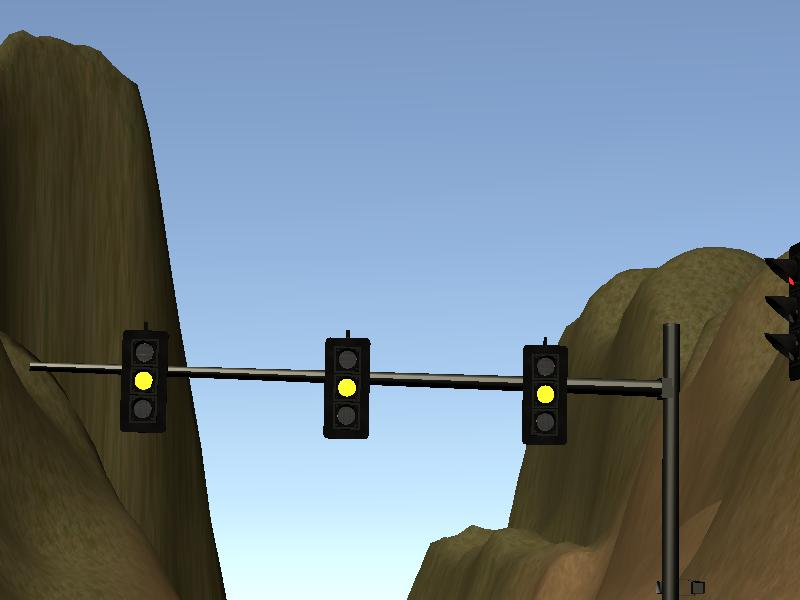not_red: (323, 338, 369, 438), (124, 330, 165, 431), (524, 343, 565, 442)
